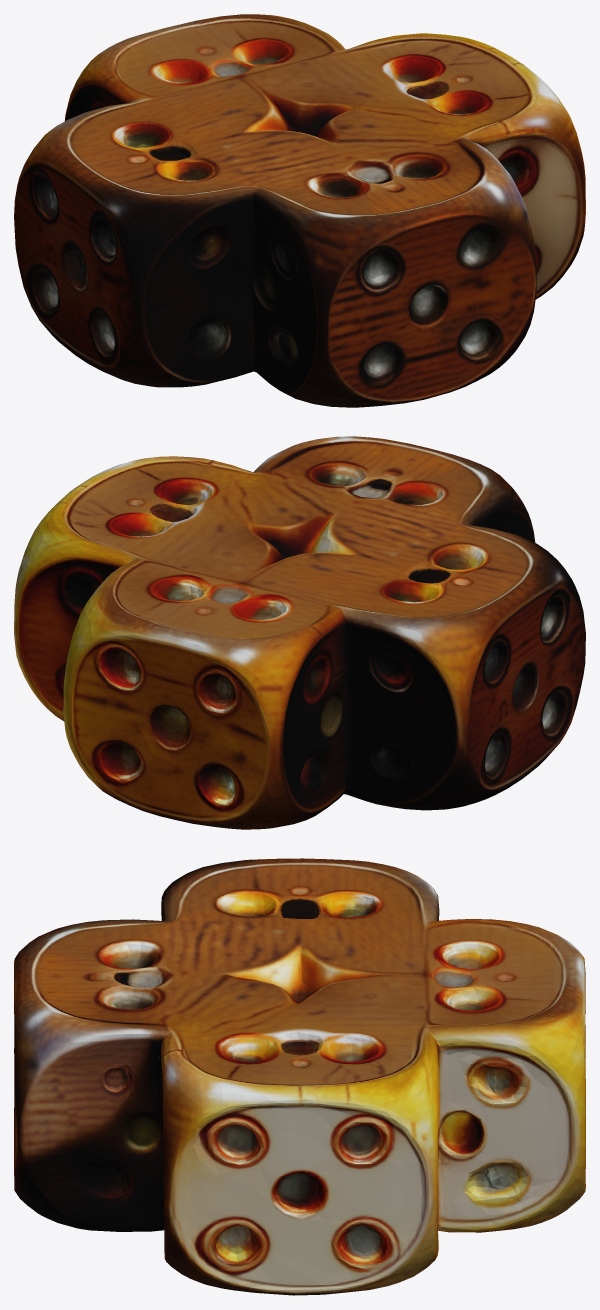
File: wood-and-bone-dice-vintage.jpeg.glb
3 views of the same model, one above another, from view 1: azimuth 30°, elevation 25°; view 2: azimuth 150°, elevation 25°; view 3: azimuth 270°, elevation 25° (orthographic). The views are drawn at different scales.
Visible parts, largest first — view 1: world; view 2: world; view 3: world.
Part boxes in pixels (box(x1,y1,x2,y2)): world: box(14, 14, 585, 407); world: box(14, 436, 585, 829); world: box(14, 858, 585, 1295).
Size of the model in its own units: 1 by 0.4001 by 0.9999.
Materials: 1 (1 with a texture image).
